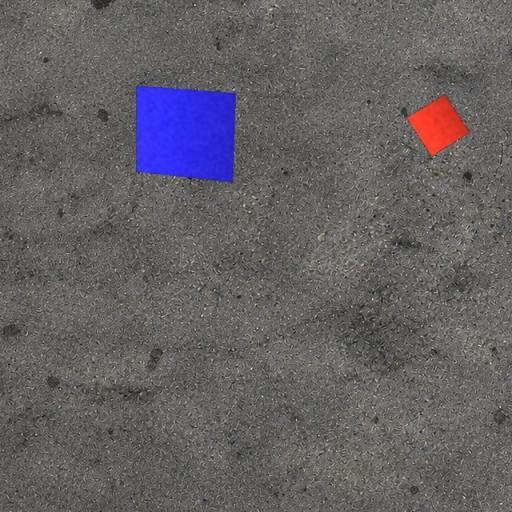BLUE_SQUARE: (135, 85, 237, 183)
RED_SQUARE: (406, 94, 470, 158)
